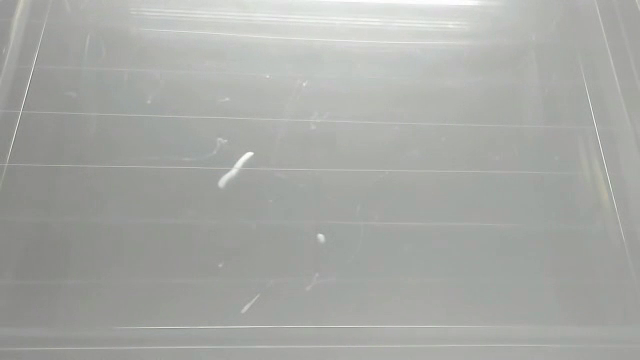alpha: (216, 150, 260, 191), (239, 289, 261, 317), (311, 229, 328, 247)
